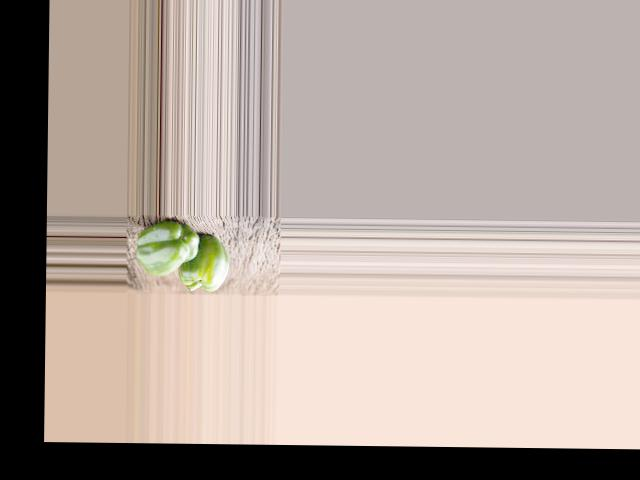bell_pepper: (136, 222, 201, 277)
